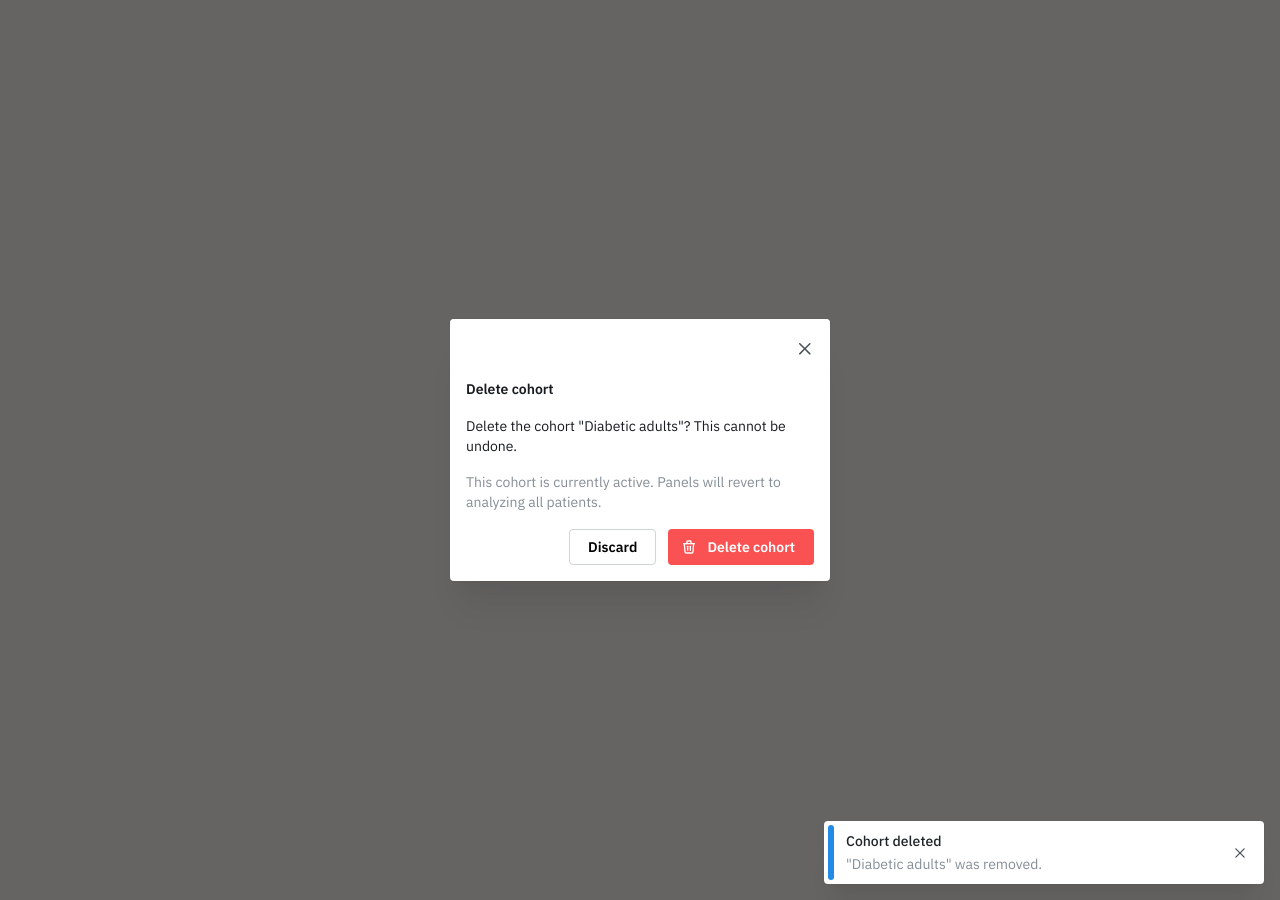
Test: DeleteCohortModal › toast message on active deletion mentions panels reverting
This screenshot has width=1280, height=900.
Click the button "Delete cohort" at (741, 547), box [668,529,814,565]
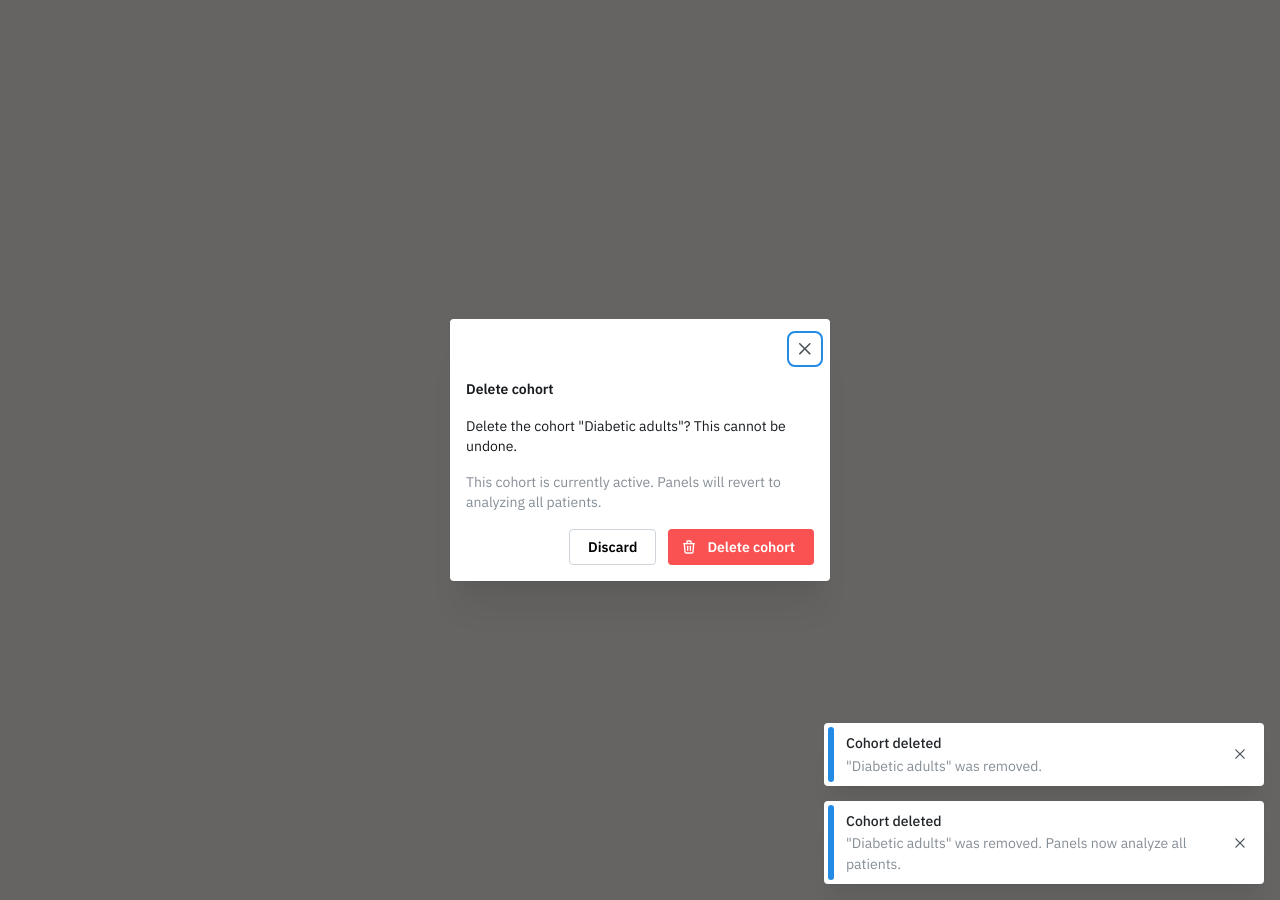
Check: the text "\"Diabetic adults\" was removed. Panels now analyze all patients." is shown, box [846,833,1216,874]
